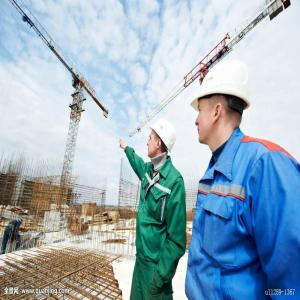white: (191, 61, 251, 150), (145, 119, 177, 163)
